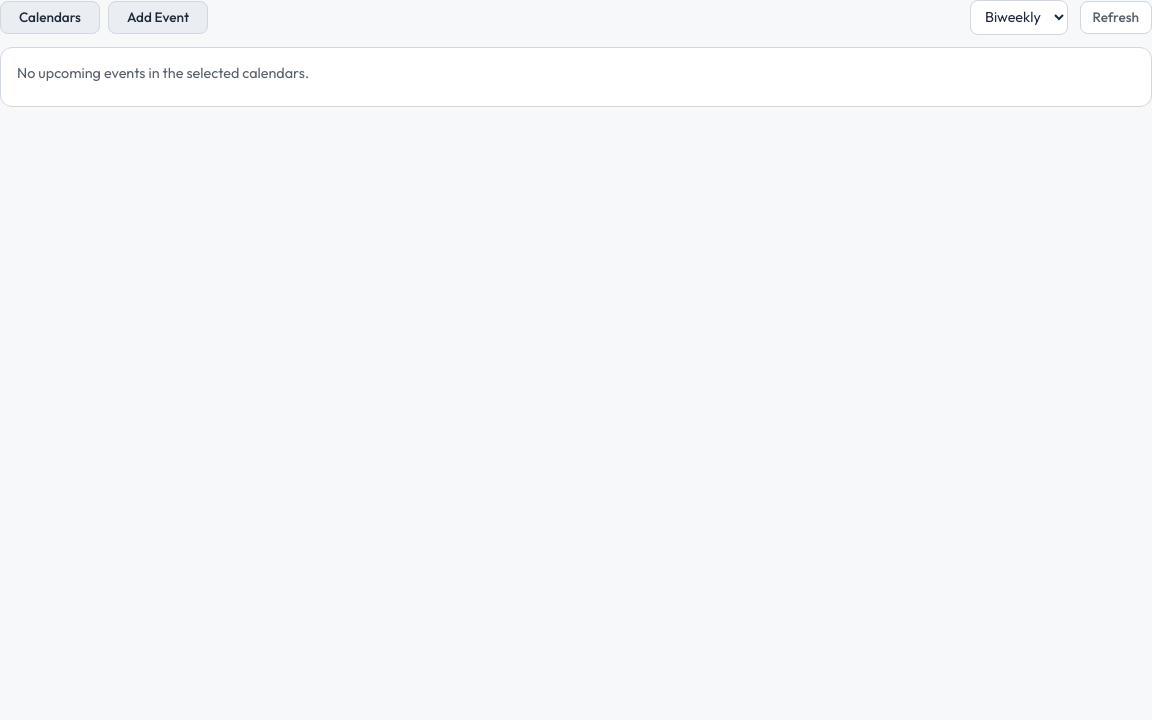
it: CalendarTab › when saved calendars exist, Add Event opens Add Event modal
Click the button "Add Event" at (158, 17), box [108,1,208,34]
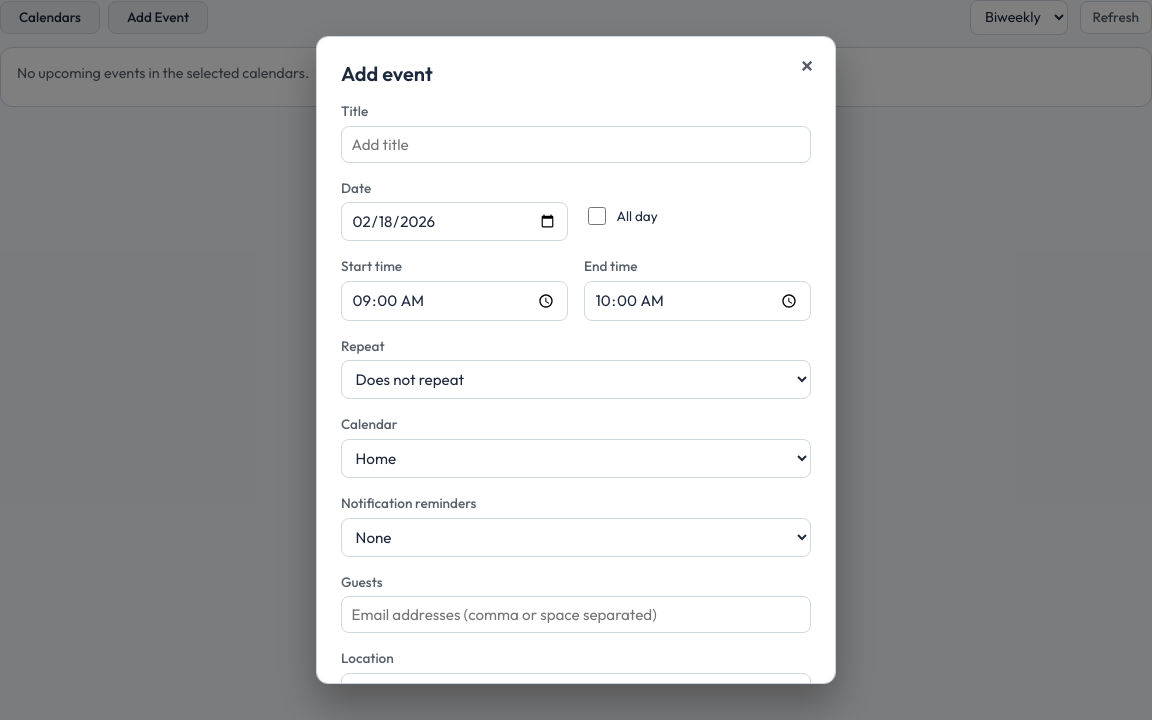
Expected: the heading "Add event" is shown, [341,61,433,86]
